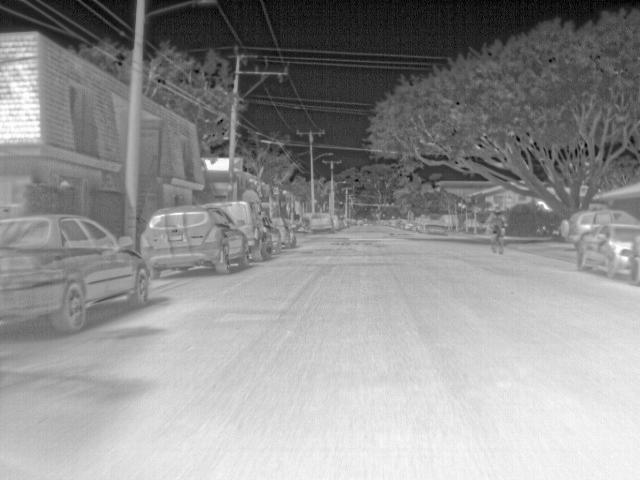car: (1, 214, 150, 332), (140, 206, 250, 280), (201, 200, 275, 262), (577, 223, 640, 279), (558, 208, 640, 243), (262, 216, 282, 253), (275, 218, 298, 248), (417, 214, 446, 234), (310, 211, 336, 232), (630, 232, 640, 285), (405, 216, 419, 230), (332, 213, 342, 230), (339, 214, 351, 228), (392, 218, 406, 230), (380, 215, 394, 226), (355, 215, 368, 226), (346, 218, 359, 228)
person: (487, 207, 507, 234)
